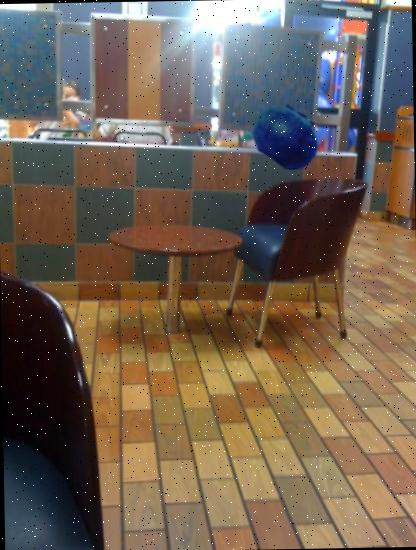Huckleberry: (250, 100, 323, 173)
